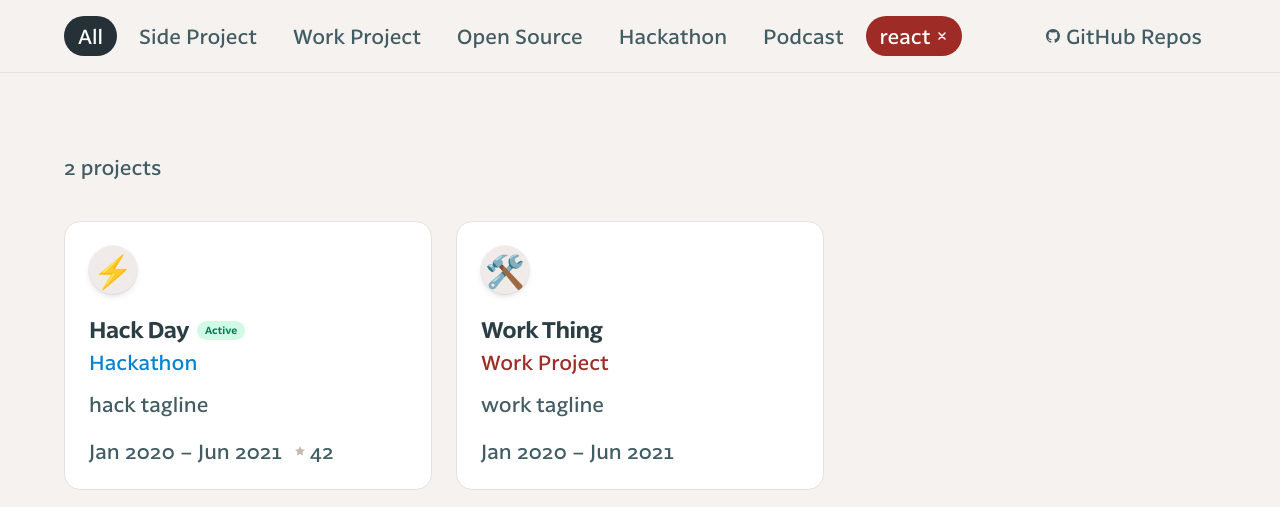
Test case: ProjectsGridClient › starts filtered by an initial skill that can be cleared
Expected: the text "2 projects" is shown, [64, 155, 161, 179]
Step 1. Click the button "GitHub Repos" → (1124, 36), box [1032, 16, 1216, 56]
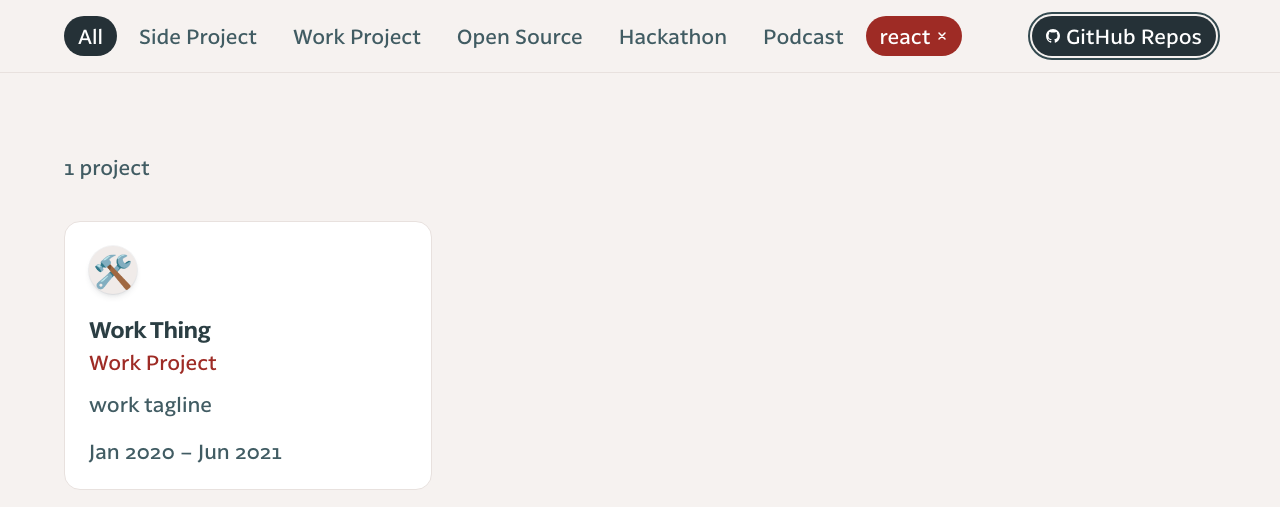
Expected: the text "1 project" is shown, [64, 155, 150, 179]
Step 2. Click the button "react" → (914, 36), box [866, 16, 962, 56]
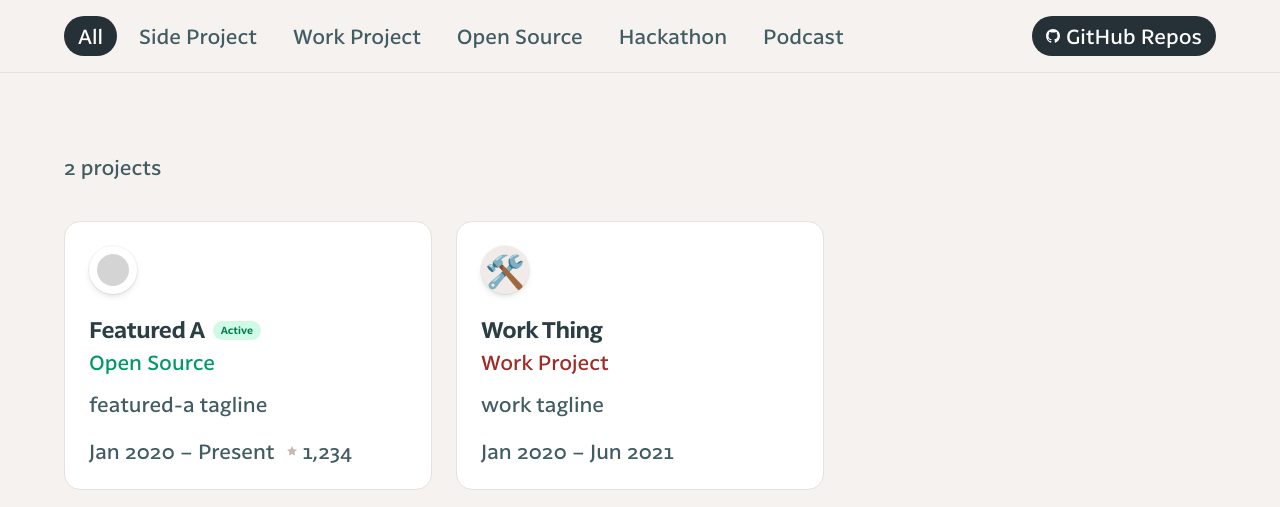
Expected: the button "react" is gone
Expected: the text "2 projects" is shown, [64, 155, 161, 179]
